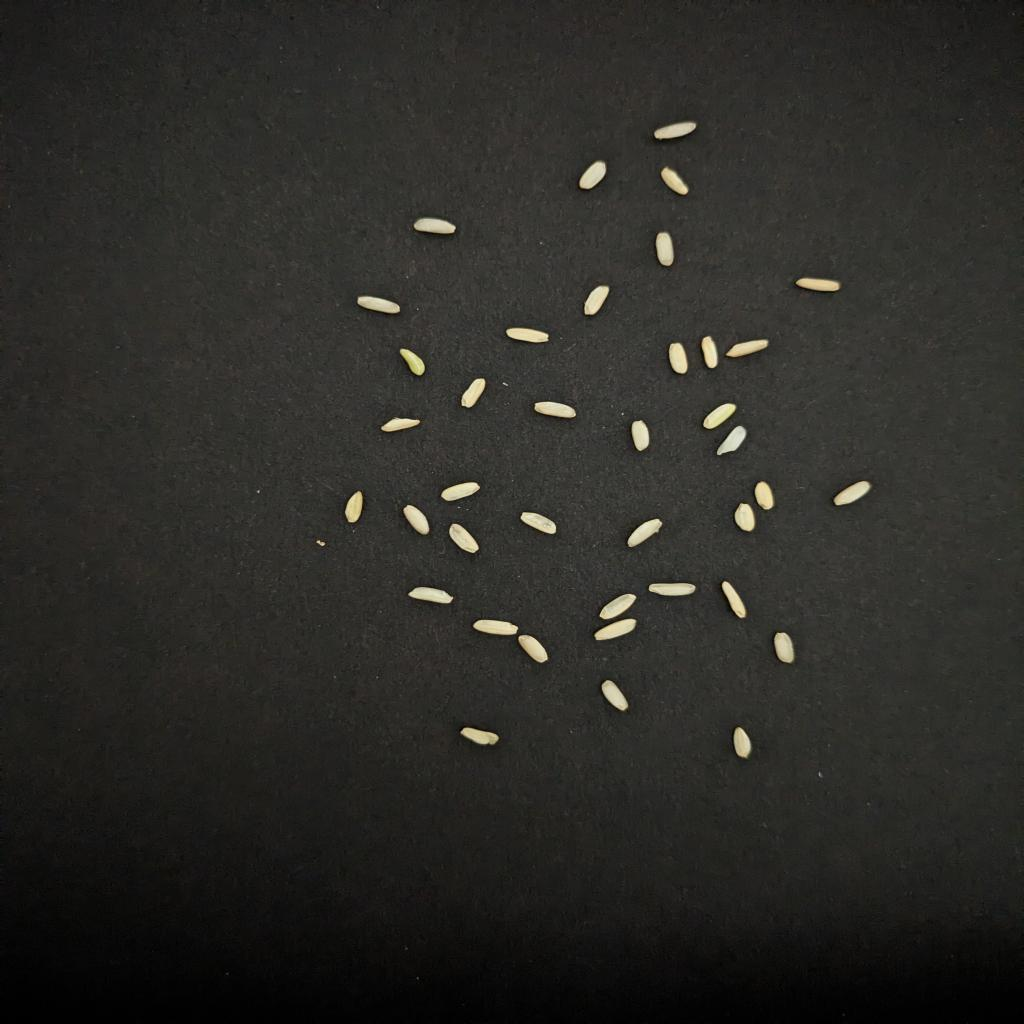chalky: (626, 518, 663, 548), (599, 594, 637, 620), (834, 480, 871, 506), (594, 618, 637, 640), (578, 160, 607, 190), (661, 166, 690, 196), (717, 426, 746, 456), (450, 524, 479, 554), (722, 582, 746, 618), (519, 634, 549, 662), (519, 512, 557, 534), (703, 404, 735, 430), (583, 286, 610, 316), (602, 680, 629, 710), (408, 586, 453, 604), (655, 122, 698, 140), (357, 296, 400, 314), (727, 340, 770, 358), (402, 506, 429, 534), (442, 482, 479, 502), (400, 348, 426, 376), (461, 378, 485, 408), (474, 620, 519, 636), (413, 218, 455, 234), (647, 582, 695, 596), (655, 232, 674, 266), (796, 278, 842, 292), (535, 402, 575, 418), (506, 328, 549, 342), (461, 728, 498, 744), (754, 482, 775, 510), (735, 504, 756, 532), (669, 342, 687, 374), (701, 336, 719, 368), (631, 420, 650, 450), (775, 632, 794, 662), (732, 728, 751, 758), (381, 418, 421, 432), (346, 492, 362, 522)
